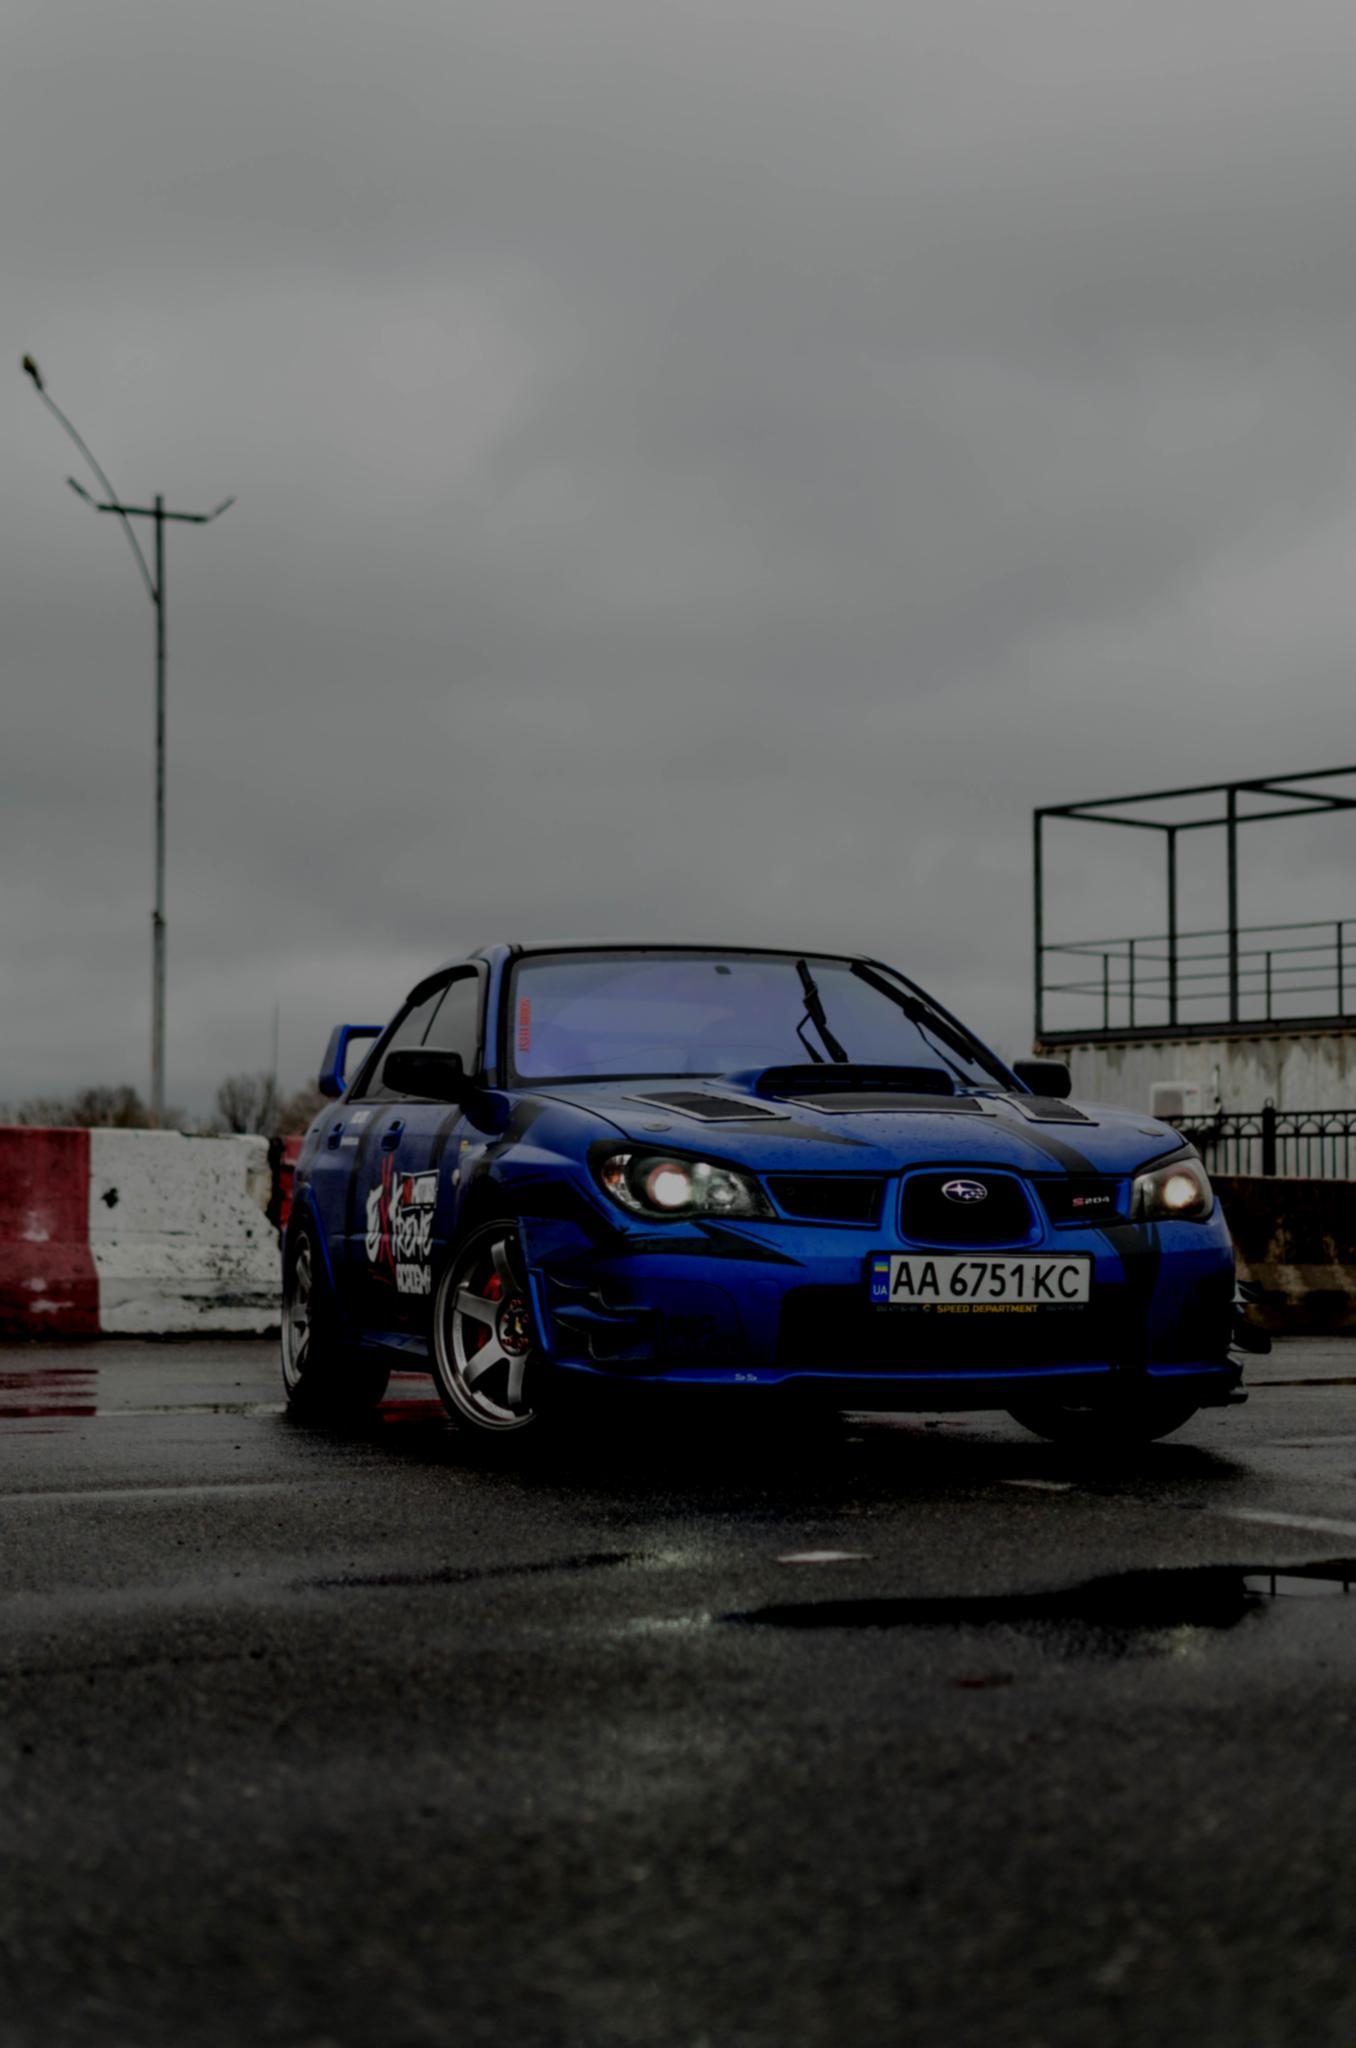subaru: (910, 1154, 1011, 1227)
